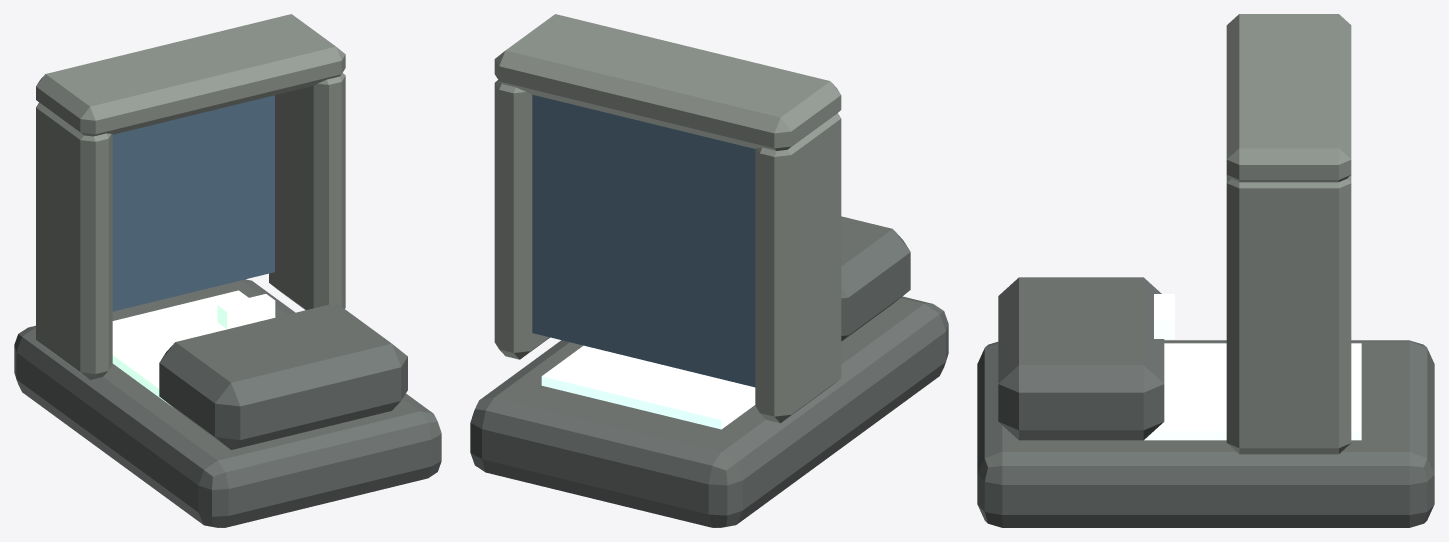
Rendered from part_holo_pl.glb.
3 views of the same model, side by side, from view 1: azimuth 30°, elevation 25°; view 2: azimuth 150°, elevation 25°; view 3: azimuth 270°, elevation 25° (orthographic). The views are drawn at different scales.
Visible parts, largest first — view 1: Holo_pl; view 2: Holo_pl; view 3: Holo_pl.
Part boxes in pixels (x1=…): Holo_pl: x1=14, y1=14, x2=441, y2=527; Holo_pl: x1=470, y1=14, x2=948, y2=527; Holo_pl: x1=977, y1=14, x2=1434, y2=527.
Size of the model in its own units: 0.033 by 0.0415 by 0.044.
